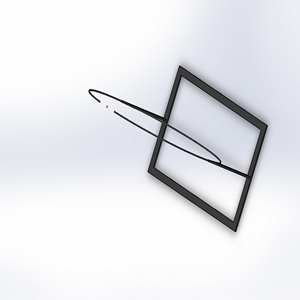circle: (84, 63, 269, 234)
